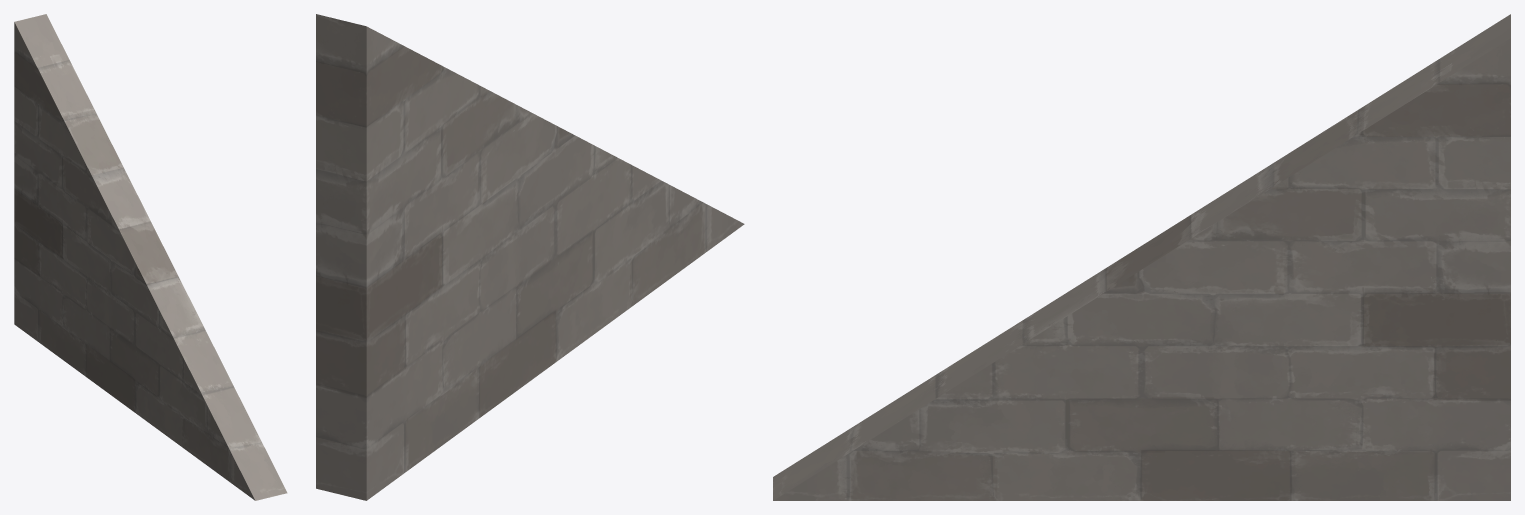
The model's file is SM_Wall_Roof.fbx.
3 views of the same model, side by side, from view 1: azimuth 30°, elevation 25°; view 2: azimuth 150°, elevation 25°; view 3: azimuth 270°, elevation 25° (orthographic). The views are drawn at different scales.
Parts seen in each view (by area): view 1: SM_Wall_Roof_LOD0; view 2: SM_Wall_Roof_LOD0; view 3: SM_Wall_Roof_LOD0.
Part boxes in pixels (x1,y1,x2,y2): SM_Wall_Roof_LOD0: (14,14,287,500); SM_Wall_Roof_LOD0: (316,14,744,500); SM_Wall_Roof_LOD0: (773,14,1510,500).
Size of the model in its own units: 50 by 650 by 450.
1 material, 1 textured.
